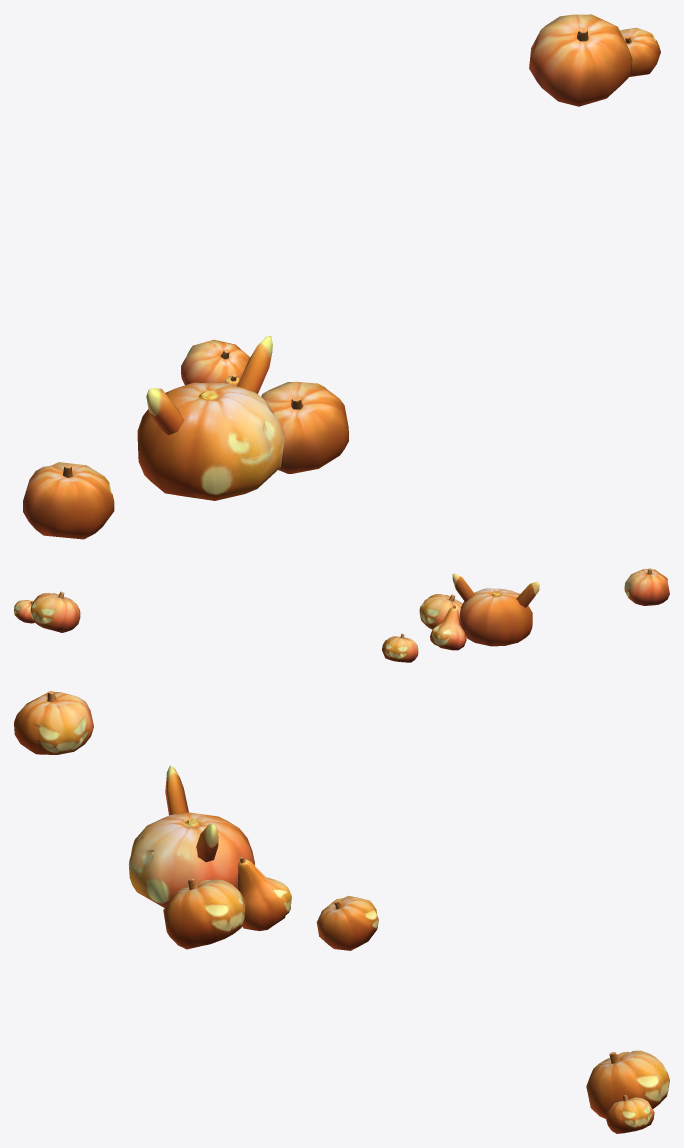
File: pref_sm_4v4beachtech_WSJ_bk_decorate_R03_lv2.fbx
The picture shows the model from 3 angles, top to bottom: view 1: azimuth 30°, elevation 25°; view 2: azimuth 150°, elevation 25°; view 3: azimuth 270°, elevation 25°; orthographic projection. The views are drawn at different scales.
Visible parts, largest first — view 1: pref_sm_4v4beachtech_WSJ_bk_decorate_R03_lv2; view 2: pref_sm_4v4beachtech_WSJ_bk_decorate_R03_lv2; view 3: pref_sm_4v4beachtech_WSJ_bk_decorate_R03_lv2.
Part boxes in pixels (<box>): pref_sm_4v4beachtech_WSJ_bk_decorate_R03_lv2: <box>23,14,660,539</box>; pref_sm_4v4beachtech_WSJ_bk_decorate_R03_lv2: <box>14,568,669,662</box>; pref_sm_4v4beachtech_WSJ_bk_decorate_R03_lv2: <box>14,691,669,1133</box>.
Bounding box in the file's own units: 13.9 × 1.96 × 9.59.
Materials: 1 (1 with a texture image).
